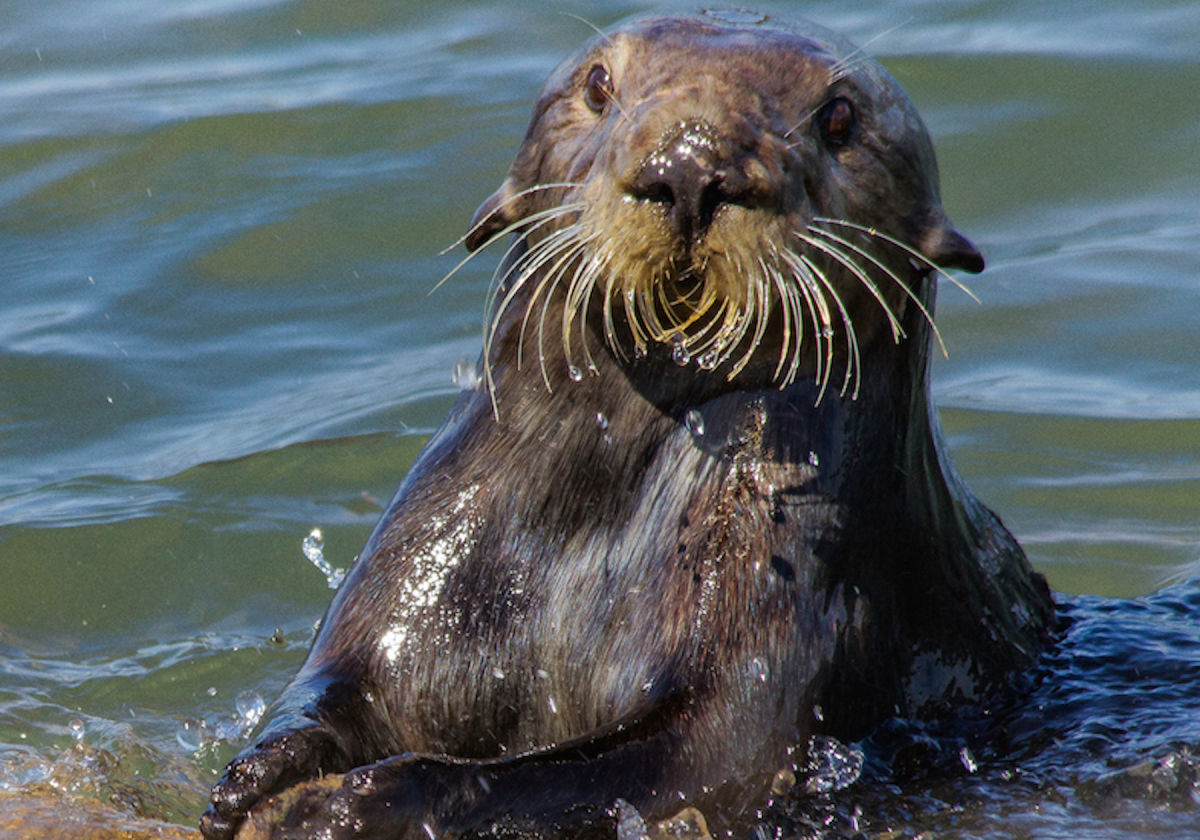otter: (425, 1, 1031, 772)
